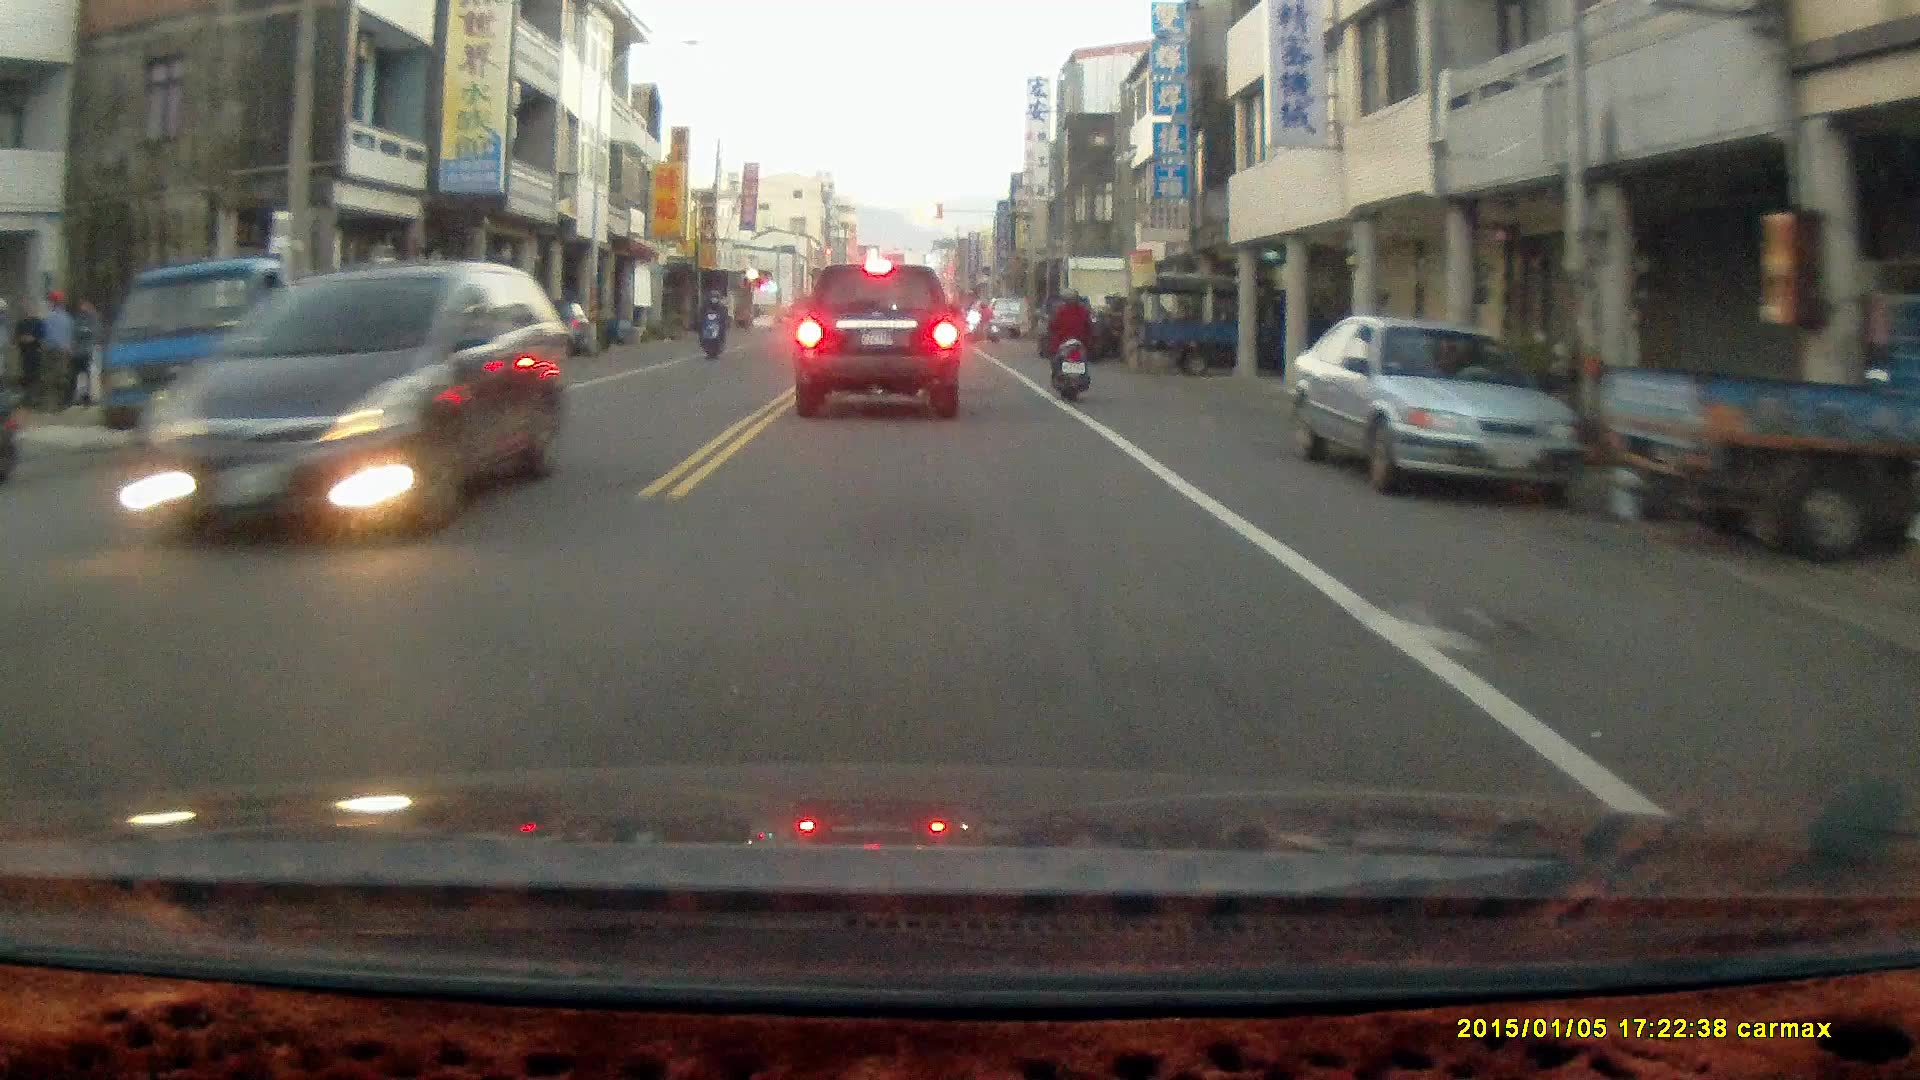pedestrian: (40, 286, 75, 411), (62, 293, 97, 411), (13, 299, 46, 408)
rider: (1045, 286, 1093, 404), (695, 291, 728, 360), (964, 300, 1001, 346)
vehicle: (131, 259, 563, 544), (1599, 275, 1920, 566), (1289, 314, 1593, 507), (118, 252, 369, 452), (793, 261, 964, 426), (1135, 272, 1345, 374)
